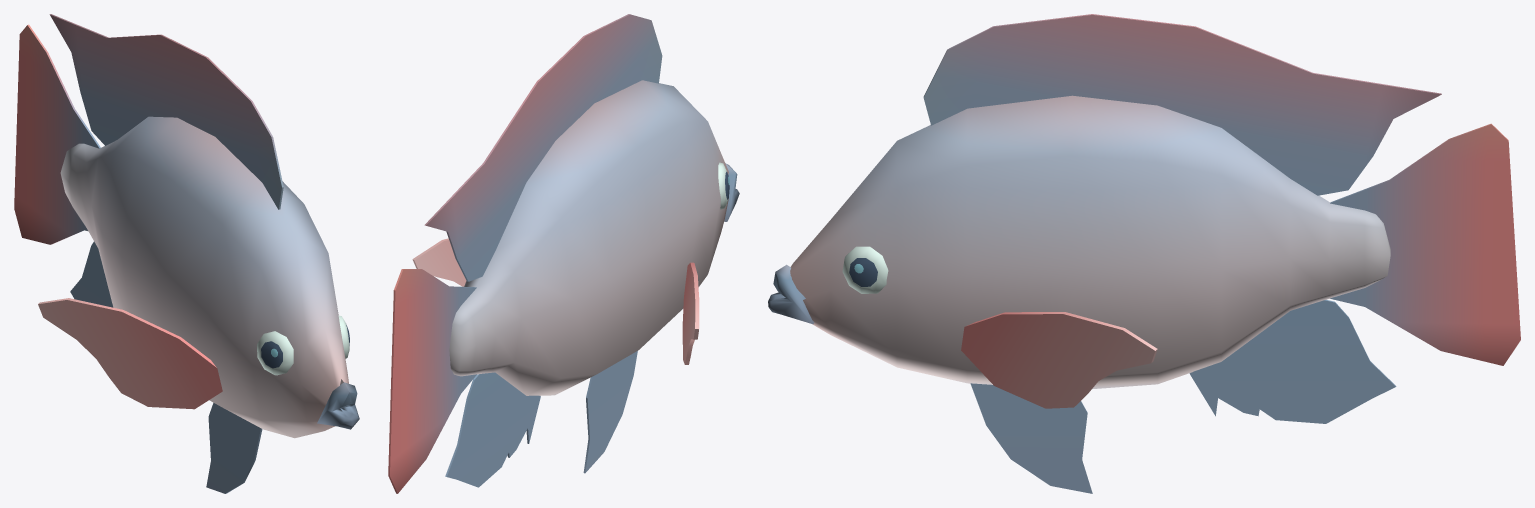
The picture shows the model from 3 angles, left to right: view 1: azimuth 30°, elevation 25°; view 2: azimuth 150°, elevation 25°; view 3: azimuth 270°, elevation 25°; orthographic projection. The views are drawn at different scales.
Visible parts, largest first — view 1: Fish_Tilapia; view 2: Fish_Tilapia; view 3: Fish_Tilapia.
Boxes of the visible parts, x1,y1,x2,y2 form: Fish_Tilapia: (14,14,359,493); Fish_Tilapia: (388,14,739,493); Fish_Tilapia: (768,14,1520,493).
Size of the model in its own units: 27.92 by 40.66 by 57.91.
